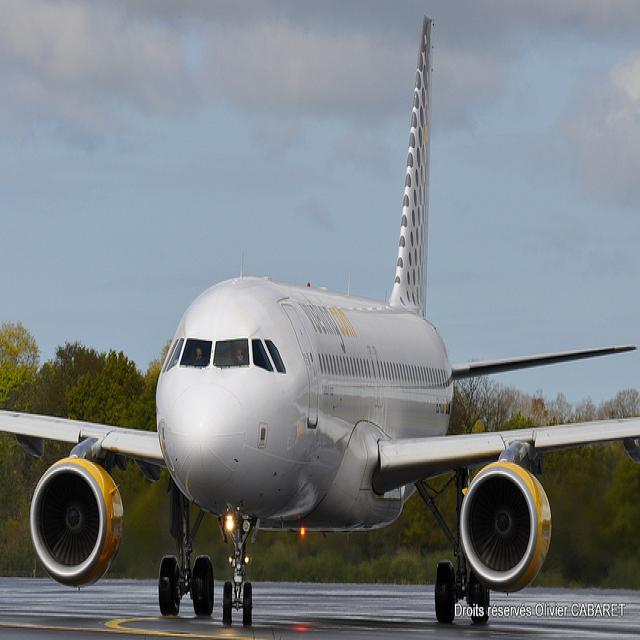airplane: (1, 12, 640, 629)
